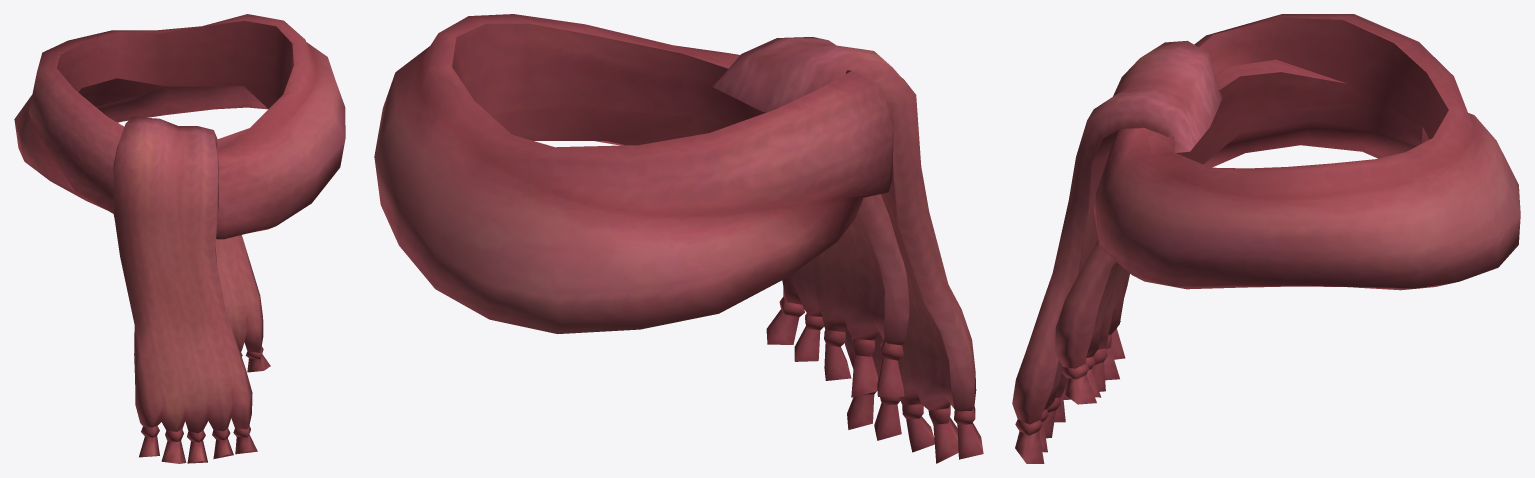
File: Homeworld_Exterior_Common_Prop_Thing_SnowmanScarf_01_Vo.fbx
The picture shows the model from 3 angles, left to right: view 1: azimuth 30°, elevation 25°; view 2: azimuth 150°, elevation 25°; view 3: azimuth 270°, elevation 25°; orthographic projection. The views are drawn at different scales.
Parts seen in each view (by area): view 1: Homeworld_Exterior_Common_Prop_Thing_SnowmanScarf_01_Vo; view 2: Homeworld_Exterior_Common_Prop_Thing_SnowmanScarf_01_Vo; view 3: Homeworld_Exterior_Common_Prop_Thing_SnowmanScarf_01_Vo.
Boxes of the visible parts, x1,y1,x2,y2 form: Homeworld_Exterior_Common_Prop_Thing_SnowmanScarf_01_Vo: [14, 14, 345, 463]; Homeworld_Exterior_Common_Prop_Thing_SnowmanScarf_01_Vo: [374, 14, 983, 463]; Homeworld_Exterior_Common_Prop_Thing_SnowmanScarf_01_Vo: [1012, 14, 1520, 463].
Size of the model in its own units: 0.7927 by 0.8321 by 0.9508.
